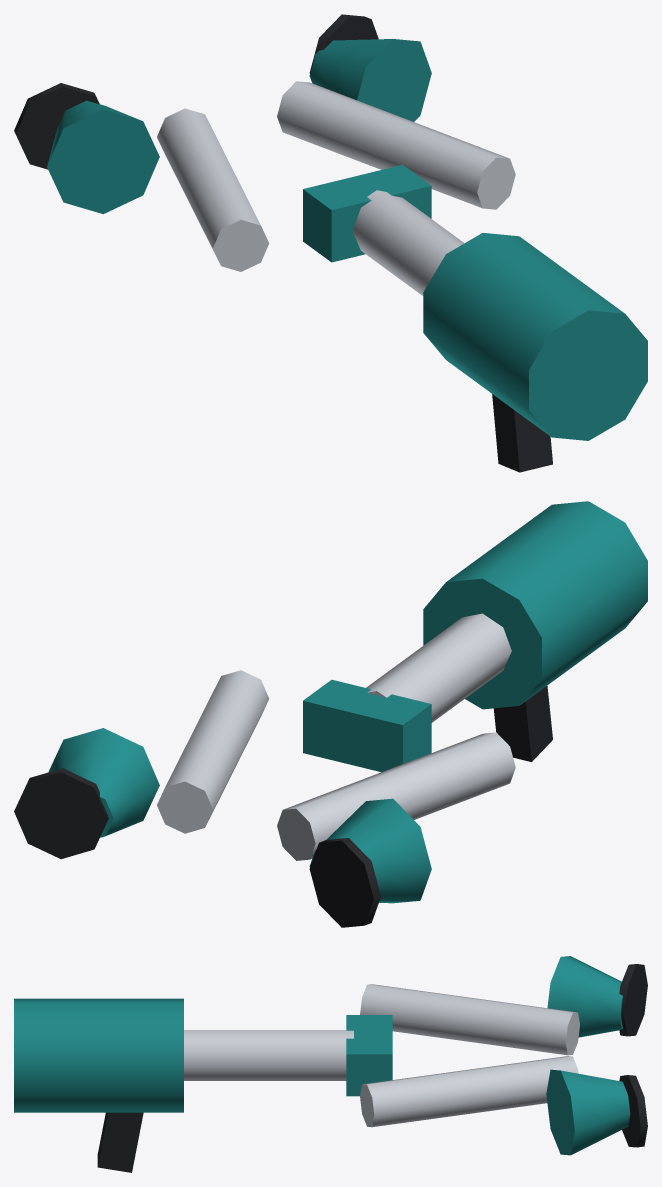
Rendered from tool_twinvac.glb.
3 views of the same model, one above another, from view 1: azimuth 30°, elevation 25°; view 2: azimuth 150°, elevation 25°; view 3: azimuth 270°, elevation 25° (orthographic). The views are drawn at different scales.
Parts seen in each view (by area): view 1: _MeshInstance3D_1169, _MeshInstance3D_1175, _MeshInstance3D_1173, _MeshInstance3D_1172, _MeshInstance3D_1176, _MeshInstance3D_1170, _MeshInstance3D_1171, _MeshInstance3D_1174, _MeshInstance3D_1168, _MeshInstance3D_1177; view 2: _MeshInstance3D_1169, _MeshInstance3D_1172, _MeshInstance3D_1171, _MeshInstance3D_1175, _MeshInstance3D_1170, _MeshInstance3D_1176, _MeshInstance3D_1177, _MeshInstance3D_1173, _MeshInstance3D_1174, _MeshInstance3D_1168; view 3: _MeshInstance3D_1169, _MeshInstance3D_1172, _MeshInstance3D_1175, _MeshInstance3D_1170, _MeshInstance3D_1176, _MeshInstance3D_1173, _MeshInstance3D_1171, _MeshInstance3D_1168, _MeshInstance3D_1174, _MeshInstance3D_1177.
Boxes of the visible parts, x1,y1,x2,y2 form: _MeshInstance3D_1169: [423, 233, 647, 440]; _MeshInstance3D_1175: [277, 81, 515, 209]; _MeshInstance3D_1173: [47, 100, 159, 214]; _MeshInstance3D_1172: [157, 108, 269, 271]; _MeshInstance3D_1176: [309, 39, 431, 121]; _MeshInstance3D_1170: [352, 190, 464, 295]; _MeshInstance3D_1171: [303, 164, 431, 262]; _MeshInstance3D_1174: [14, 83, 99, 169]; _MeshInstance3D_1168: [492, 394, 552, 472]; _MeshInstance3D_1177: [309, 14, 378, 73]; _MeshInstance3D_1169: [423, 501, 647, 709]; _MeshInstance3D_1172: [277, 732, 515, 860]; _MeshInstance3D_1171: [303, 679, 431, 772]; _MeshInstance3D_1175: [157, 670, 269, 833]; _MeshInstance3D_1170: [366, 613, 511, 722]; _MeshInstance3D_1176: [48, 728, 159, 837]; _MeshInstance3D_1177: [14, 768, 108, 859]; _MeshInstance3D_1173: [309, 798, 431, 903]; _MeshInstance3D_1174: [309, 838, 380, 927]; _MeshInstance3D_1168: [493, 686, 552, 761]; _MeshInstance3D_1169: [14, 998, 183, 1112]; _MeshInstance3D_1172: [360, 984, 579, 1055]; _MeshInstance3D_1175: [360, 1056, 578, 1127]; _MeshInstance3D_1170: [184, 1030, 353, 1080]; _MeshInstance3D_1176: [546, 1069, 630, 1155]; _MeshInstance3D_1173: [547, 956, 622, 1037]; _MeshInstance3D_1171: [346, 1015, 392, 1096]; _MeshInstance3D_1168: [97, 1112, 143, 1172]; _MeshInstance3D_1174: [619, 964, 647, 1036]; _MeshInstance3D_1177: [619, 1075, 647, 1147].
Bounding box in the file's own units: 0.4619 × 0.2331 × 0.8202.
